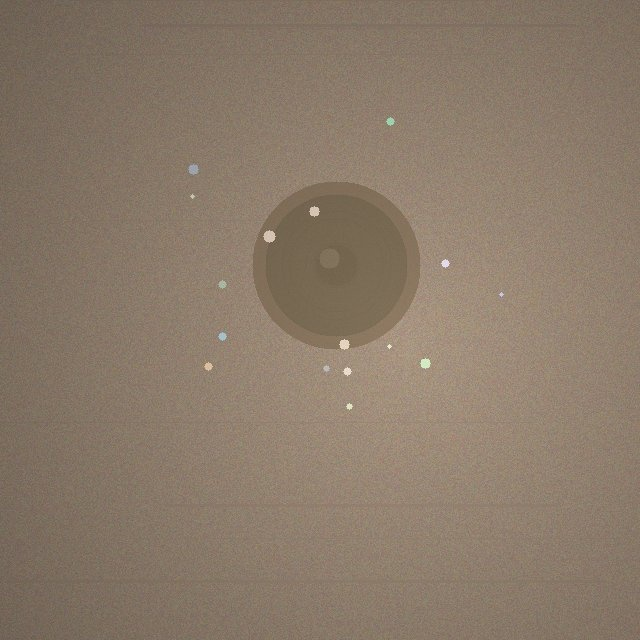overburn: (252, 181, 420, 349)
